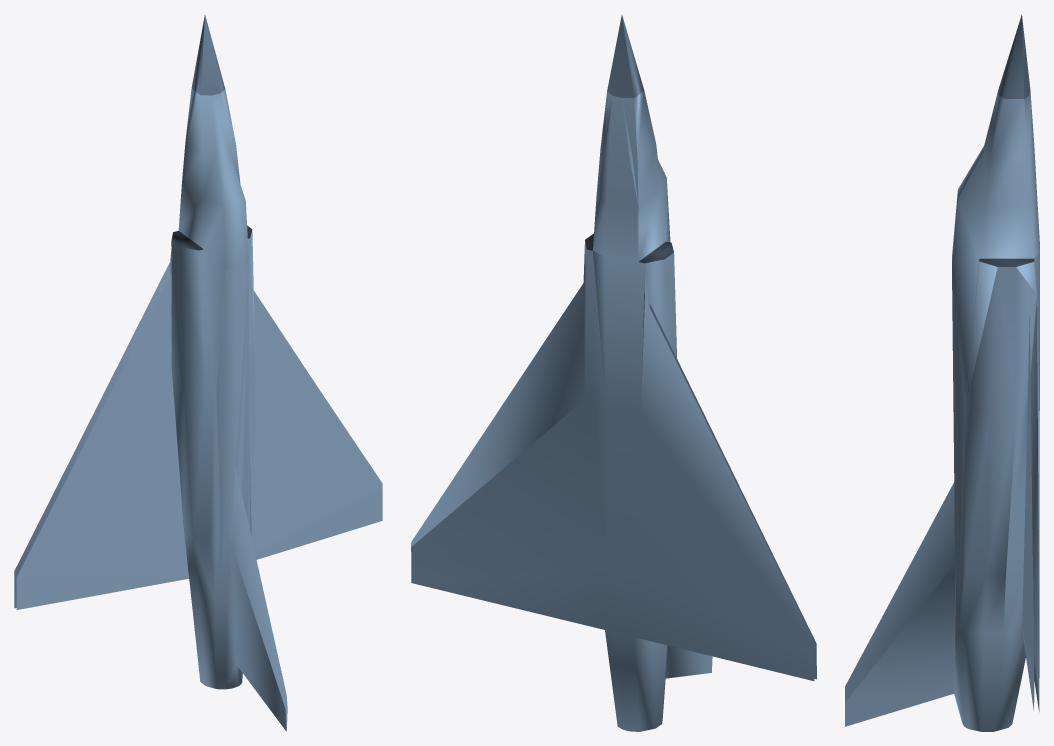
File: mirage2000.glb
3 views of the same model, side by side, from view 1: azimuth 30°, elevation 25°; view 2: azimuth 150°, elevation 25°; view 3: azimuth 270°, elevation 25° (orthographic). The views are drawn at different scales.
Size of the model in its own units: 9.33 by 16.04 by 3.98.
